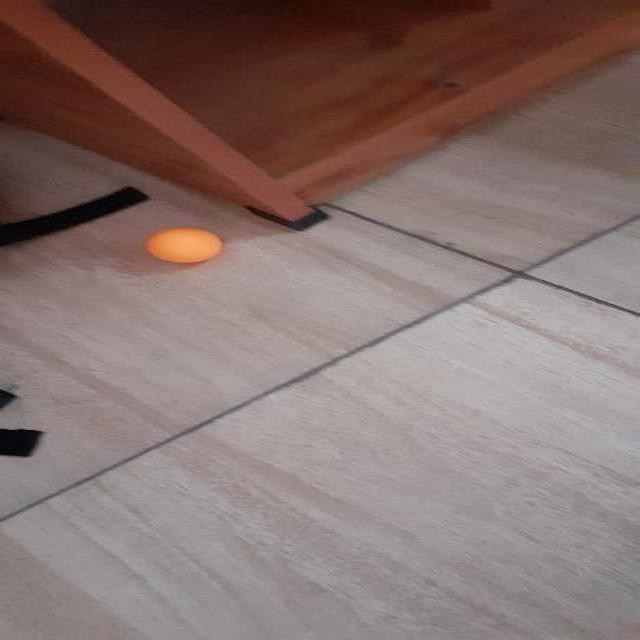oball: (146, 224, 224, 269)
